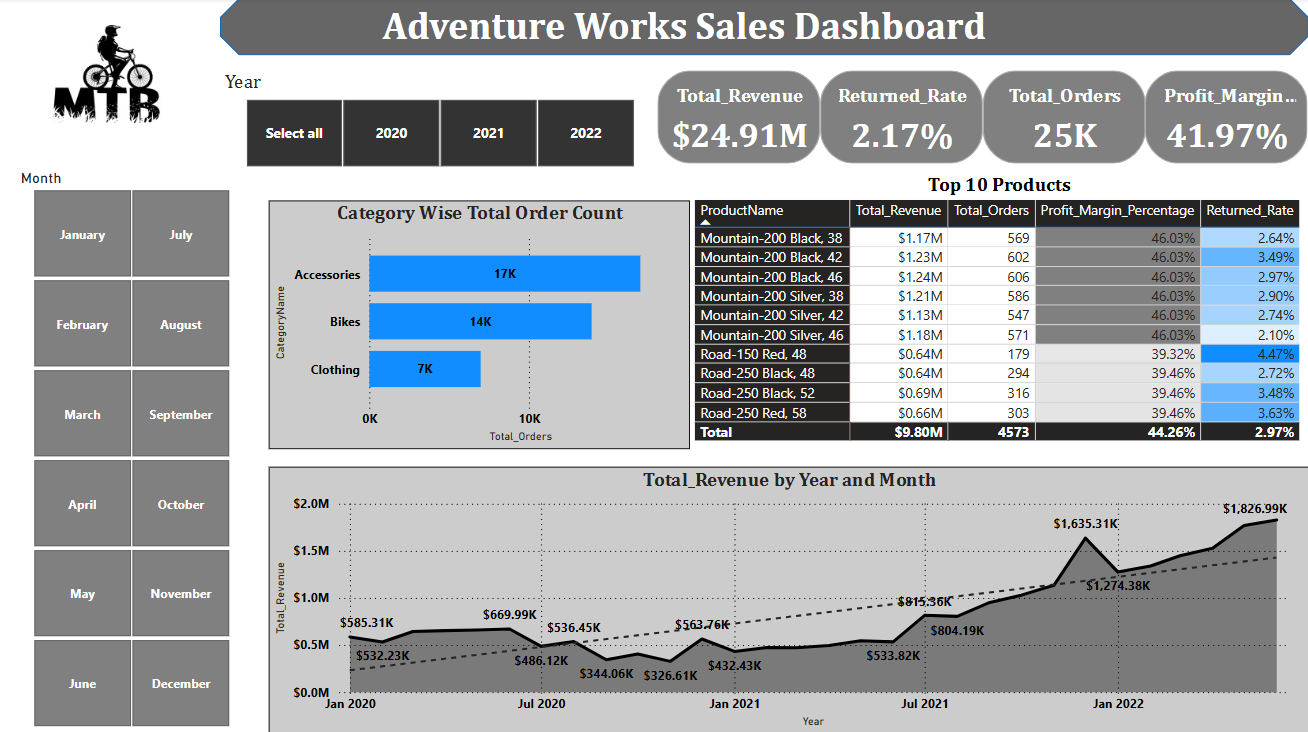

The dashboard page shown, as its layout file describes it:
{"tool":"powerbi","page":{"name":"Dashboard","canvas":[1280,720],"ordinal":5},"visuals":[{"type":"shape","box":[215.2,0,1065.1,56.3],"z":0},{"type":"textbox","box":[369.3,0,865.7,56.3],"z":1000},{"type":"cardVisual","fields":{"Data":["Measure_Table.Total_Revenue","Measure_Table.Returned_Rate","Measure_Table.Total_Orders","Measure_Table.Profit_Margin_Percentage"]},"box":[643.2,70.9,637.1,91.7],"z":2000},{"type":"pivotTable","title":"Top 10 Products","fields":{"Rows":["Product Lookup.ProductName"],"Values":["Measure_Table.Total_Revenue","Measure_Table.Total_Orders","Measure_Table.Profit_Margin_Percentage","Measure_Table.Returned_Rate"]},"box":[675,171.2,605.3,270.2],"z":3000},{"type":"lineChart","fields":{"Category":["Calendar Lookup.Date.Variation.Date Hierarchy.Year","Calendar Lookup.Date.Variation.Date Hierarchy.Month"],"Y":["Measure_Table.Total_Revenue"]},"box":[262.9,458.6,1017.4,261.7],"z":4000},{"type":"clusteredBarChart","title":"Category Wise Total Order Count","fields":{"Category":["Product Categories Lookup.CategoryName"],"Y":["Measure_Table.Total_Orders"]},"box":[262.9,198.1,412.1,243.3],"z":5000},{"type":"slicer","fields":{"Values":["Calendar Lookup.Date.Variation.Date Hierarchy.Month"]},"box":[7.2,163,240.9,556.9],"z":6000},{"type":"slicer","title":"Year","fields":{"Values":["Calendar Lookup.Date.Variation.Date Hierarchy.Year"]},"box":[215,70.7,428.5,101],"z":7000},{"type":"image","box":[0,0,207.9,149.2],"z":8000}]}

Visuals, with their boxes in screenshot pixels (x1, y1, x2, y2), scaled from the page's 1280x720 canvas onto the 1308x732 screenshot:
shape: BBox(220, 0, 1307, 57)
textbox: BBox(377, 0, 1262, 57)
cardVisual - Measure_Table.Total_Revenue x Measure_Table.Returned_Rate: BBox(657, 72, 1307, 165)
"Top 10 Products" pivotTable: BBox(690, 174, 1307, 449)
lineChart - Calendar Lookup.Date.Variation.Date Hierarchy.Year x Calendar Lookup.Date.Variation.Date Hierarchy.Month: BBox(269, 466, 1307, 731)
"Category Wise Total Order Count" clusteredBarChart: BBox(269, 201, 690, 449)
slicer - Calendar Lookup.Date.Variation.Date Hierarchy.Month: BBox(7, 166, 254, 731)
"Year" slicer: BBox(220, 72, 658, 175)
image: BBox(0, 0, 212, 152)
